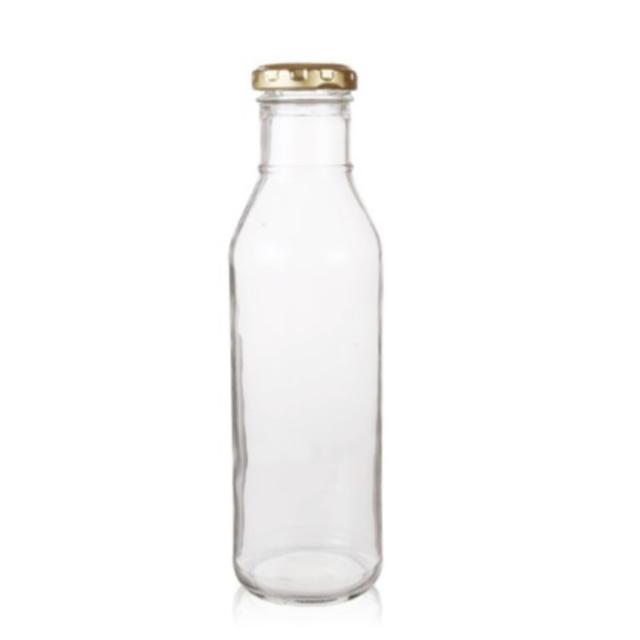recyclable: (200, 89, 408, 608)
